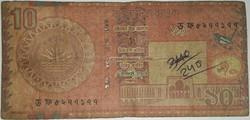10 taka: (2, 2, 247, 116)
